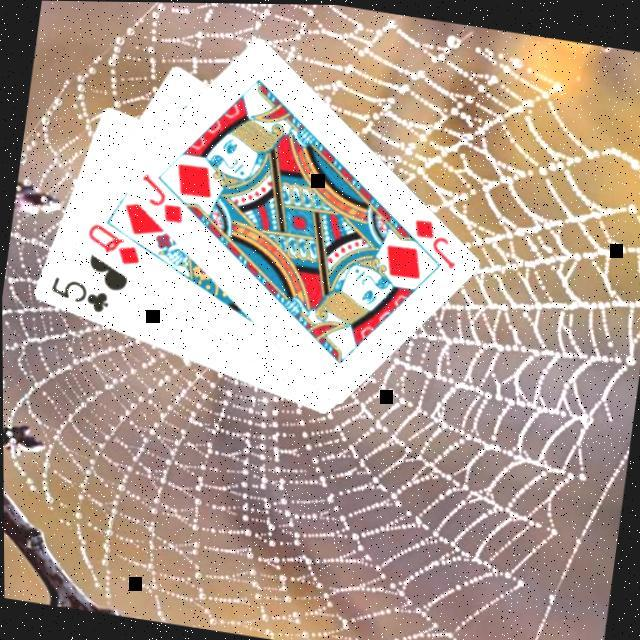5C: (46, 270, 115, 316)
JD: (407, 211, 466, 271), (134, 167, 192, 226)
QD: (82, 217, 148, 269)
